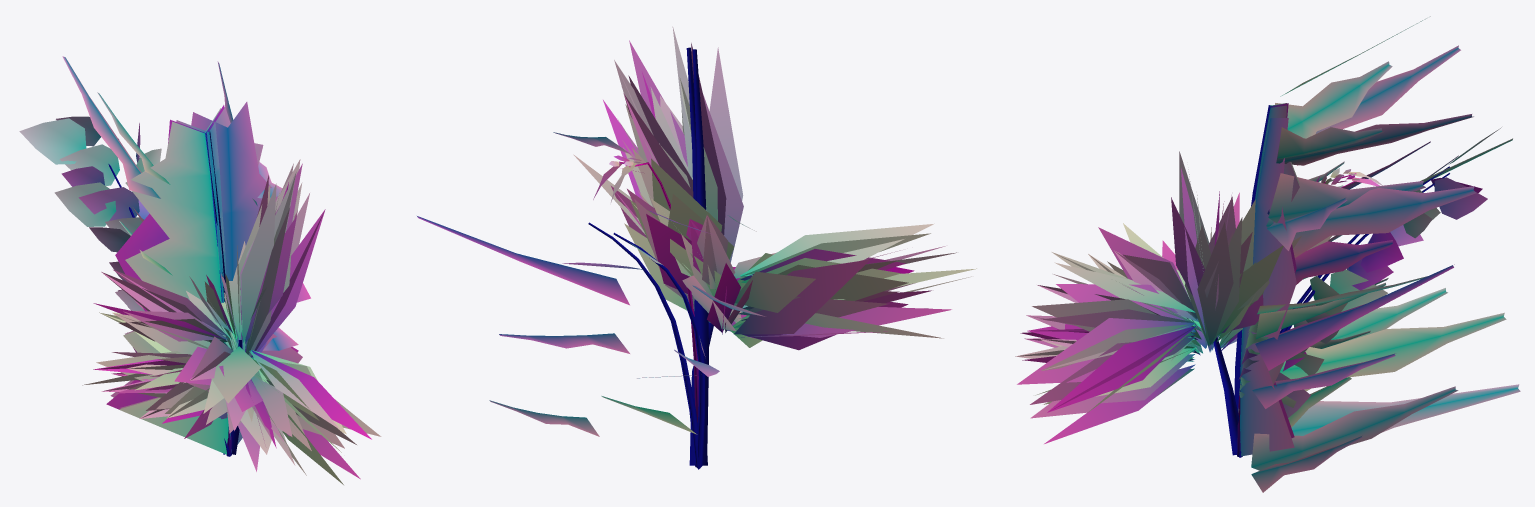
Rendered from forest-foliage.glb.
The picture shows the model from 3 angles, left to right: view 1: azimuth 30°, elevation 25°; view 2: azimuth 150°, elevation 25°; view 3: azimuth 270°, elevation 25°; orthographic projection. The views are drawn at different scales.
Visible parts, largest first — view 1: spruce_frond_1, pine_tuft_0, pine_tuft_1, pine_clump_1, spruce_bough_1, birch_strand_1, pine_clump_0, birch_strand_0, spruce_frond_0, spruce_bough_0; view 2: pine_tuft_0, pine_clump_1, pine_clump_0, pine_tuft_1, spruce_frond_1, spruce_bough_0, birch_strand_0, birch_strand_1, spruce_frond_0, fern_frond_0; view 3: spruce_frond_0, pine_clump_1, pine_tuft_0, spruce_frond_1, spruce_bough_0, spruce_bough_1, pine_tuft_1, birch_strand_0, pine_clump_0, birch_strand_1, fern_frond_0, fern_frond_1.
Boxes of the visible parts, x1,y1,x2,y2 form: spruce_frond_1: [97, 92, 298, 454]; pine_tuft_0: [93, 163, 371, 484]; pine_tuft_1: [82, 163, 381, 475]; pine_clump_1: [96, 273, 344, 454]; spruce_bough_1: [110, 102, 302, 452]; birch_strand_1: [19, 118, 231, 456]; pine_clump_0: [93, 159, 346, 434]; birch_strand_0: [56, 116, 231, 456]; spruce_frond_0: [62, 56, 263, 454]; spruce_bough_0: [106, 105, 310, 409]; pine_tuft_0: [573, 26, 971, 465]; pine_clump_1: [618, 43, 976, 337]; pine_clump_0: [646, 47, 908, 350]; pine_tuft_1: [611, 60, 956, 338]; spruce_frond_1: [489, 49, 756, 464]; spruce_bough_0: [417, 216, 696, 378]; birch_strand_0: [588, 222, 719, 469]; birch_strand_1: [562, 232, 705, 469]; spruce_frond_0: [650, 47, 765, 464]; fern_frond_0: [611, 157, 700, 468]; spruce_frond_0: [1233, 45, 1506, 470]; pine_clump_1: [1017, 168, 1331, 418]; pine_tuft_0: [1015, 169, 1301, 455]; spruce_frond_1: [1234, 61, 1395, 492]; spruce_bough_0: [1255, 16, 1520, 445]; spruce_bough_1: [1240, 118, 1388, 456]; pine_tuft_1: [1027, 151, 1252, 396]; birch_strand_0: [1238, 173, 1487, 457]; pine_clump_0: [1030, 261, 1255, 412]; birch_strand_1: [1239, 127, 1501, 457]; fern_frond_0: [1237, 168, 1382, 457]; fern_frond_1: [1238, 175, 1379, 450].
Bounding box in the file's own units: 0.911 × 1.14 × 1.35.
